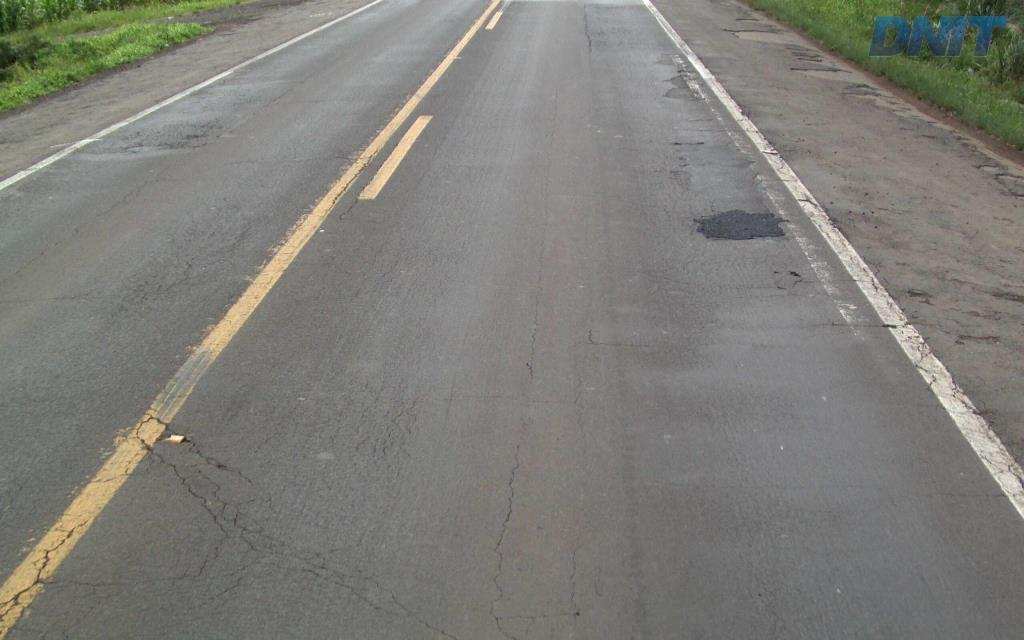crack: (170, 463, 230, 560)
